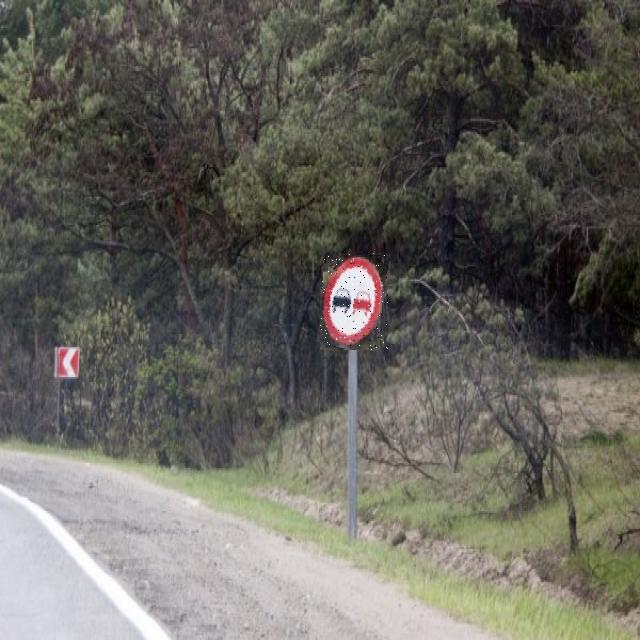no overtaking: (320, 253, 388, 350)
